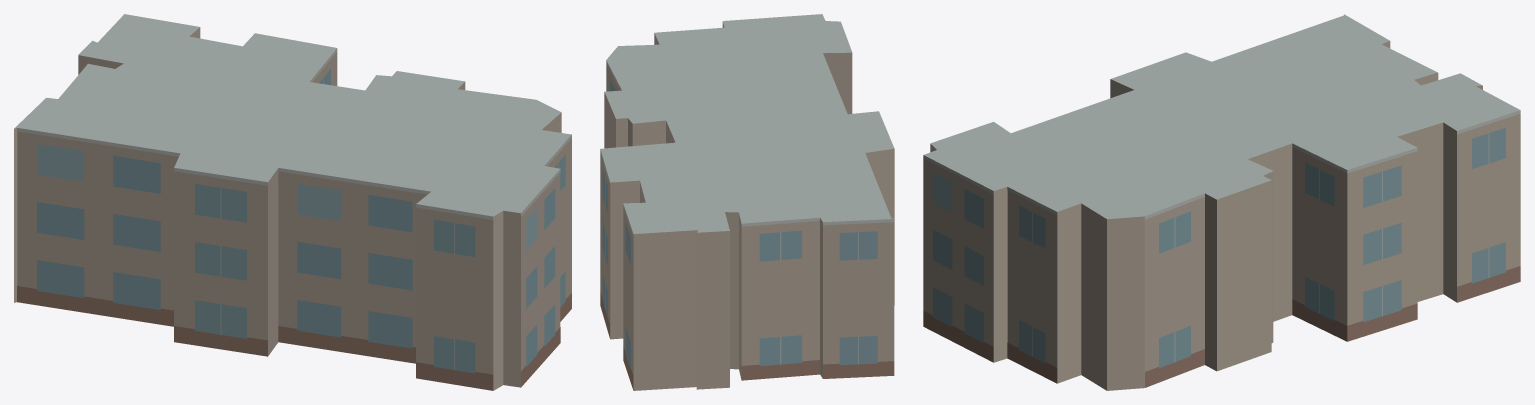
Rendered from survey-upis-32584979.glb.
3 views of the same model, side by side, from view 1: azimuth 30°, elevation 25°; view 2: azimuth 150°, elevation 25°; view 3: azimuth 270°, elevation 25° (orthographic). The views are drawn at different scales.
Parts seen in each view (by area): view 1: survey-upis-32584979.tmp; view 2: survey-upis-32584979.tmp; view 3: survey-upis-32584979.tmp.
Part boxes in pixels (x1,y1,x2,y2): survey-upis-32584979.tmp: [14, 14, 571, 390]; survey-upis-32584979.tmp: [600, 14, 894, 390]; survey-upis-32584979.tmp: [923, 14, 1520, 390].
Bounding box in the file's own units: 30.77 × 12 × 37.83.
